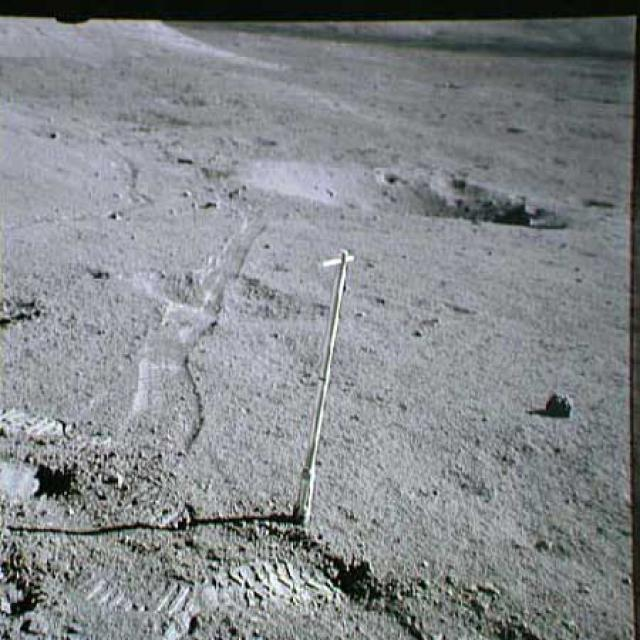artifact: (286, 245, 358, 536)
crater: (234, 153, 574, 235)
rock: (541, 382, 574, 422)
